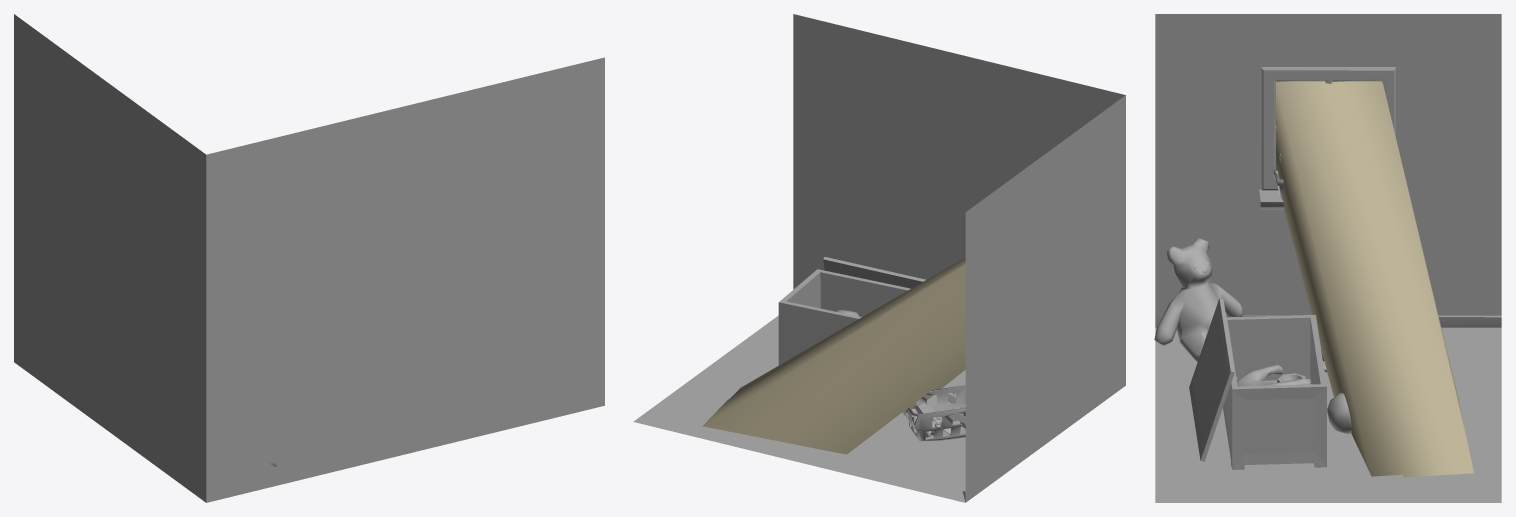
Rendered from Toy Box Scene_LOD2.fbx.
3 renders of one model, left to right at view 1: azimuth 30°, elevation 25°; view 2: azimuth 150°, elevation 25°; view 3: azimuth 270°, elevation 25°, orthographic. The views are drawn at different scales.
Parts seen in each view (by area): view 1: Wall1, Wall2, WallTrim1; view 2: Wall1, Wall2, Lightbeam2, Floor, Box_Base, Rug, Basket1, Box_Lid; view 3: Wall2, Lightbeam2, Floor, Box_Base, Rug, Bear, Box_Lid, WindowFrame, WallTrim2, SpaceDogRetop, Ball1, WindowSil.
Part boxes in pixels (x1,y1,x2,y2): Wall1: (206, 57, 604, 502); Wall2: (14, 14, 206, 502); WallTrim1: (206, 392, 604, 502); Wall1: (793, 14, 1125, 289); Wall2: (965, 95, 1125, 502); Lightbeam2: (702, 257, 965, 454); Floor: (633, 315, 965, 502); Box_Base: (778, 269, 910, 365); Rug: (720, 353, 965, 459); Basket1: (902, 385, 965, 441); Box_Lid: (823, 257, 926, 288); Wall2: (1155, 14, 1501, 315); Lightbeam2: (1276, 81, 1473, 477); Floor: (1155, 327, 1501, 502); Box_Base: (1223, 315, 1326, 469); Rug: (1169, 349, 1403, 482); Bear: (1154, 238, 1244, 361); Box_Lid: (1189, 298, 1234, 461); WindowFrame: (1261, 67, 1395, 190); WallTrim2: (1155, 315, 1501, 327); SpaceDogRetop: (1236, 364, 1310, 386); Ball1: (1327, 393, 1352, 434); WindowSil: (1259, 189, 1284, 209).
Size of the model in its own units: 217 by 184 by 182.
